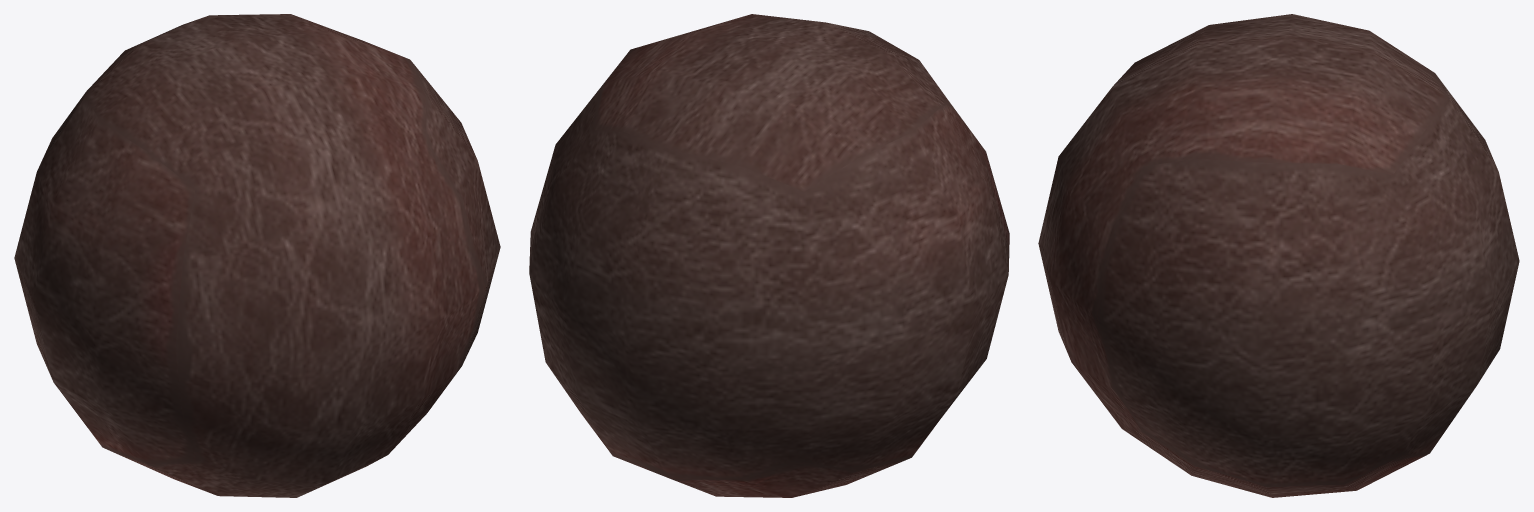
File: Ball_Symbols.FBX
The picture shows the model from 3 angles, left to right: view 1: azimuth 30°, elevation 25°; view 2: azimuth 150°, elevation 25°; view 3: azimuth 270°, elevation 25°; orthographic projection. The views are drawn at different scales.
Parts seen in each view (by area): view 1: Ball_02; view 2: Ball_02; view 3: Ball_02.
Part boxes in pixels (x1,y1,x2,y2): Ball_02: (14,14,500,497); Ball_02: (529,14,1009,497); Ball_02: (1038,14,1519,497).
Size of the model in its own units: 10.36 by 10.22 by 10.36.
1 material, 1 textured.
